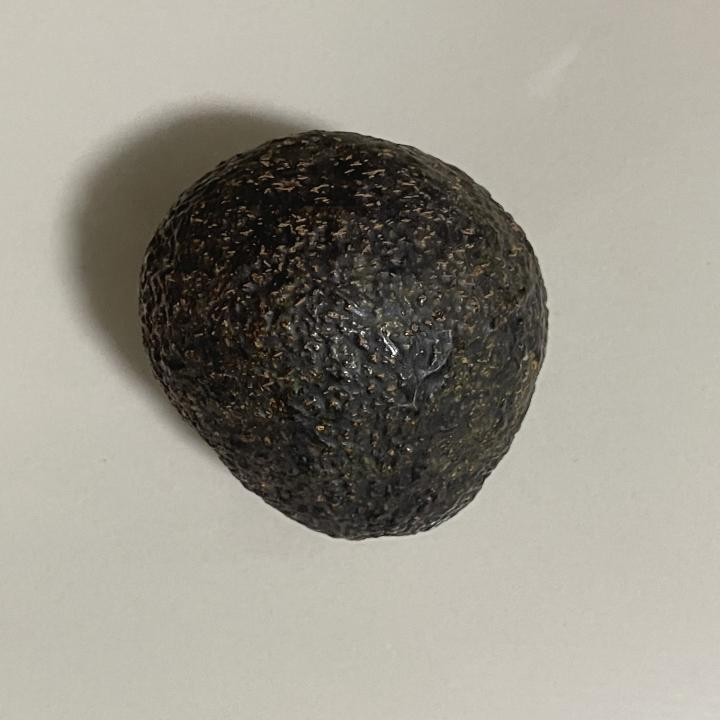Level2: (129, 125, 558, 545)
